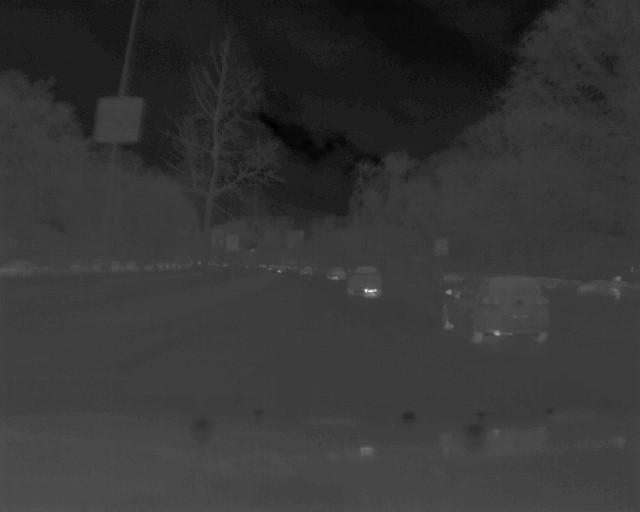car: (442, 272, 551, 344), (342, 261, 387, 299), (327, 265, 346, 282)
person: (609, 268, 622, 307)
